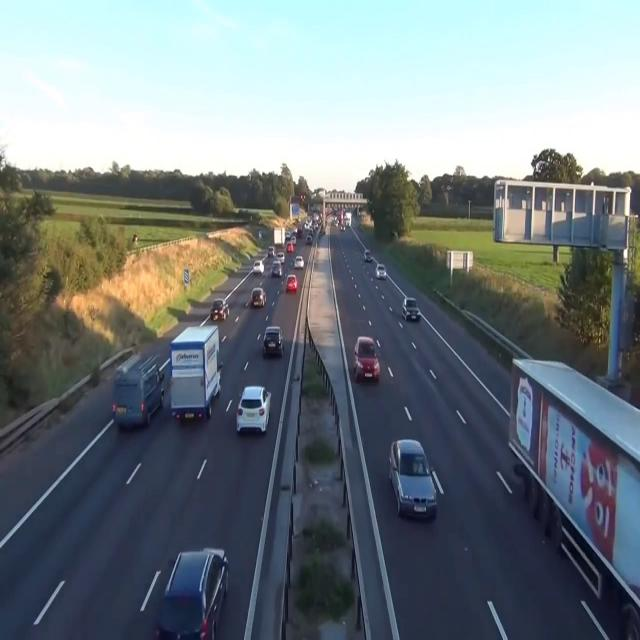belum terisi: (496, 324, 640, 640), (142, 539, 238, 640), (158, 317, 225, 434), (104, 336, 168, 440), (382, 427, 442, 533), (235, 372, 277, 446), (348, 324, 382, 392), (259, 320, 287, 367), (397, 289, 421, 327), (207, 293, 231, 329), (243, 280, 269, 311)
